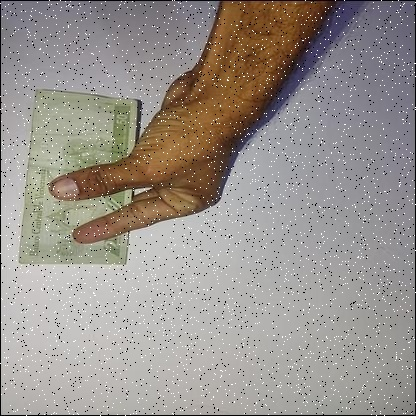fifty-back-vef: (18, 90, 139, 266)
